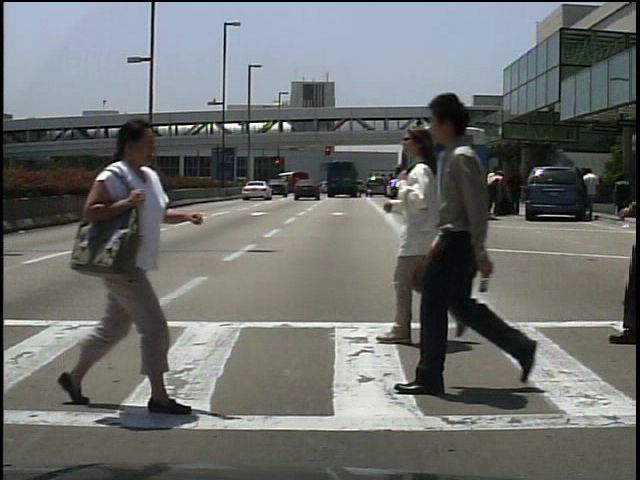person: (402, 84, 552, 401), (65, 121, 198, 417), (369, 117, 487, 356), (485, 162, 503, 215), (508, 166, 526, 216), (585, 168, 602, 218)
